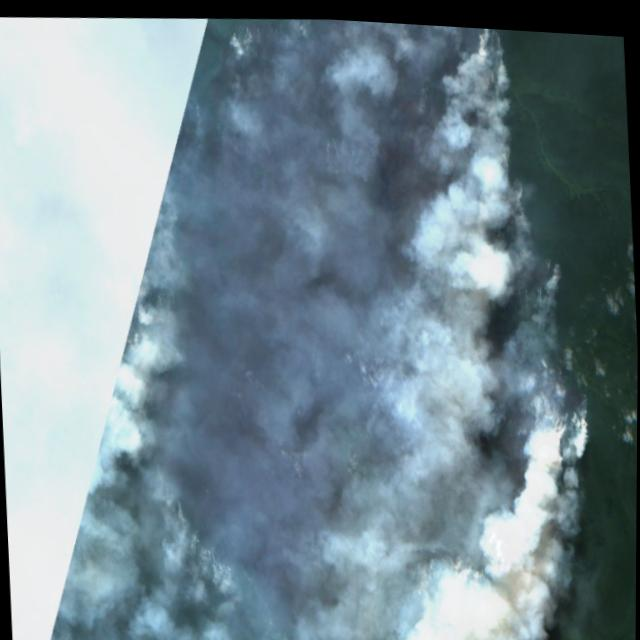fire: (21, 1, 614, 640)
